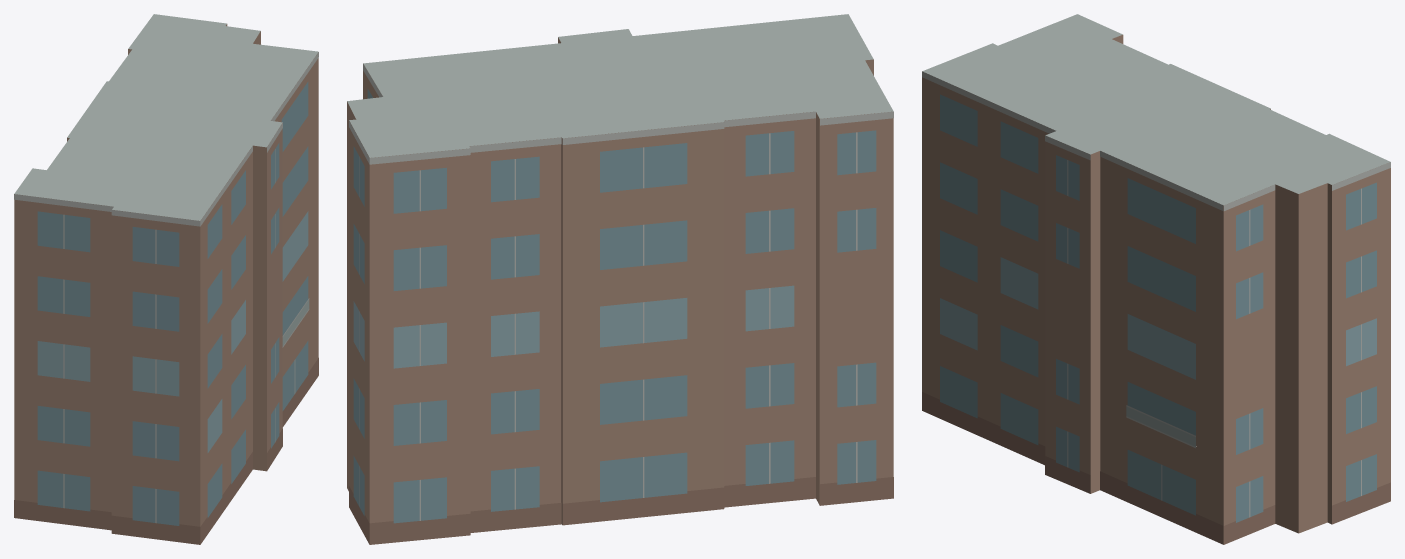
Rendered from survey-upis-33017717.glb.
3 renders of one model, left to right at view 1: azimuth 30°, elevation 25°; view 2: azimuth 150°, elevation 25°; view 3: azimuth 270°, elevation 25°, orthographic. The views are drawn at different scales.
Parts seen in each view (by area): view 1: survey-upis-33017717.tmp; view 2: survey-upis-33017717.tmp; view 3: survey-upis-33017717.tmp.
Boxes of the visible parts, <box> form: survey-upis-33017717.tmp: <box>14,14,318,544</box>; survey-upis-33017717.tmp: <box>347,14,893,544</box>; survey-upis-33017717.tmp: <box>922,14,1390,544</box>.
Bounding box in the file's own units: 16.88 × 13.95 × 17.47.
